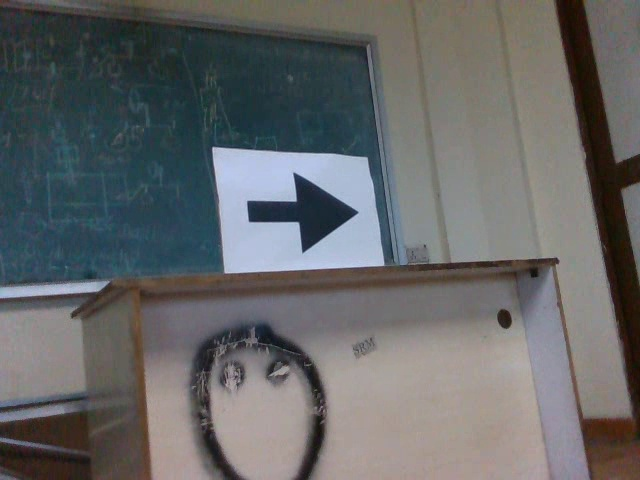Right: (239, 167, 361, 258)
